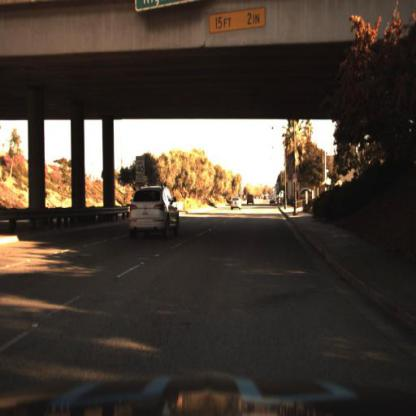car: (114, 176, 181, 247), (226, 192, 243, 212), (244, 191, 258, 207)
